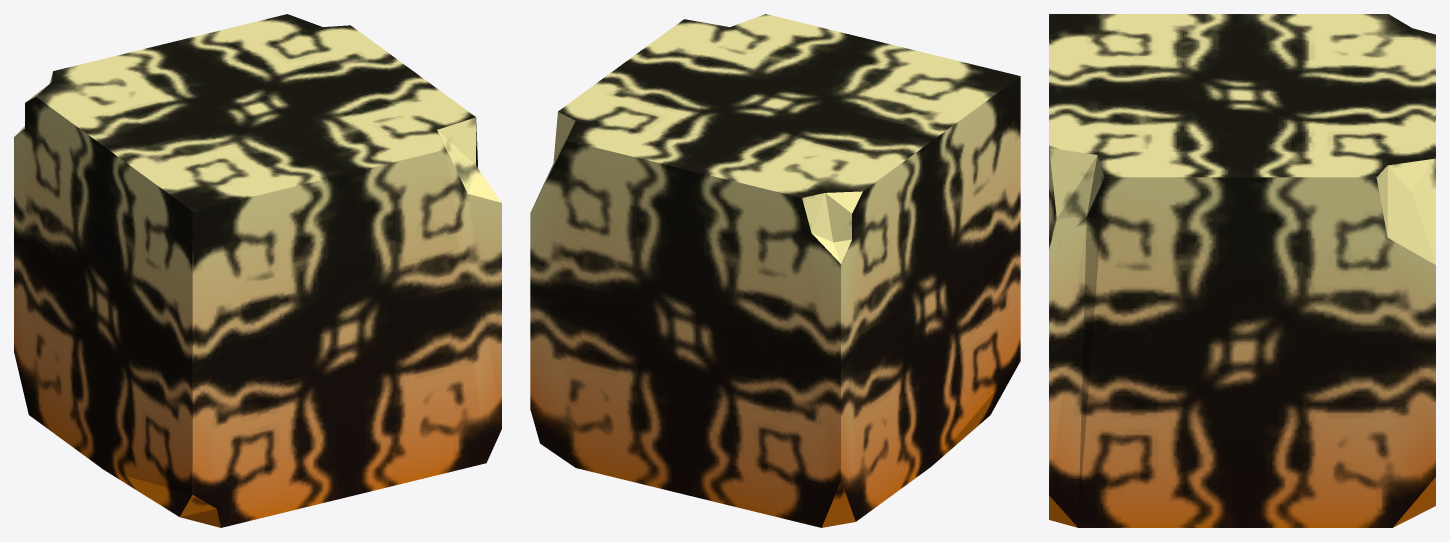
The model's file is EnemyStoneAdd.gltf.
3 renders of one model, left to right at view 1: azimuth 30°, elevation 25°; view 2: azimuth 150°, elevation 25°; view 3: azimuth 270°, elevation 25°, orthographic. The views are drawn at different scales.
Visible parts, largest first — view 1: EnemyStoneAdd; view 2: EnemyStoneAdd; view 3: EnemyStoneAdd.
Boxes of the visible parts, x1=… form: EnemyStoneAdd: x1=14, y1=14, x2=501, y2=527; EnemyStoneAdd: x1=530, y1=14, x2=1020, y2=527; EnemyStoneAdd: x1=1049, y1=14, x2=1435, y2=527.
Size of the model in its own units: 2.02 by 2.02 by 2.02.
Materials: 1 (1 with a texture image).
